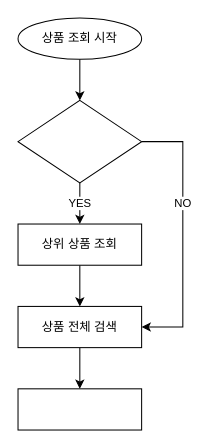
Image size: 209x448. Some labels were removed from this diagram. Each missing label, with the box of its shape:
상품 상세 조회: (17, 388, 142, 430)
홈페이지 랜딩: (17, 99, 142, 183)
